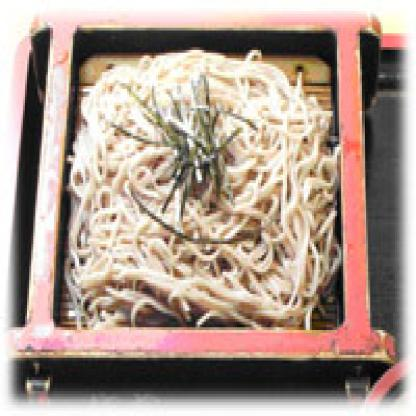memil soba: (75, 50, 337, 333)
